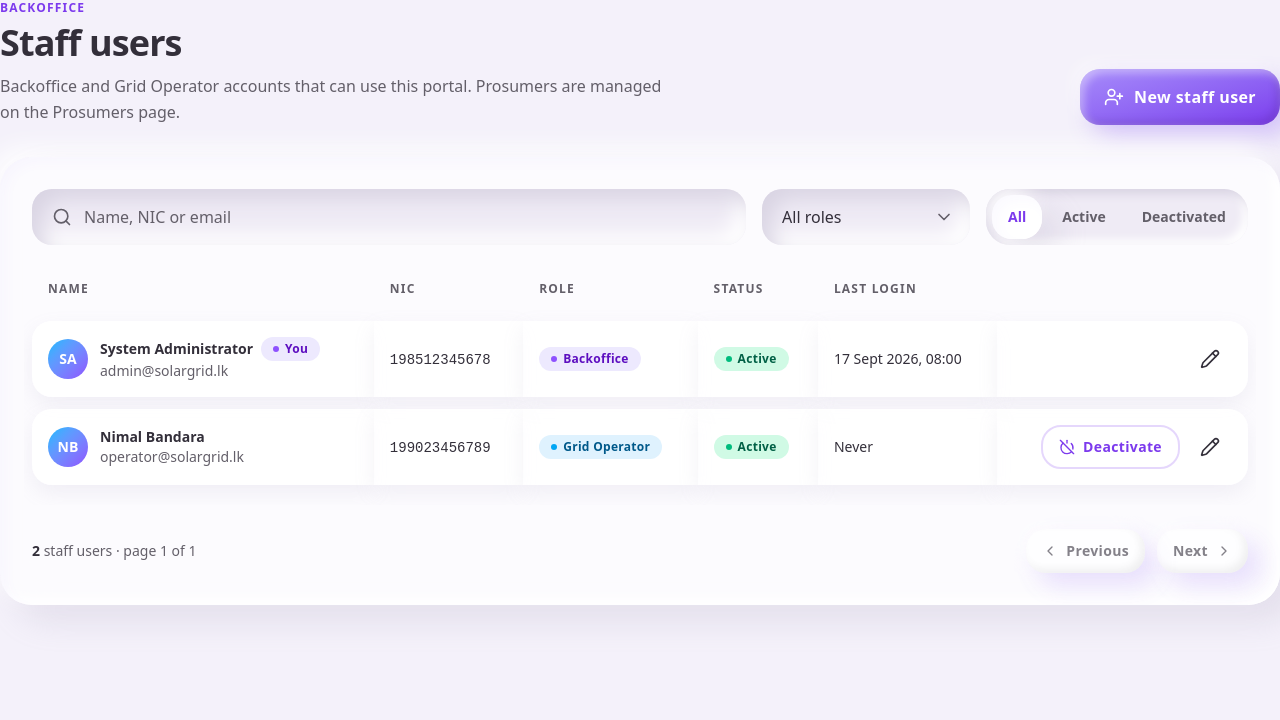
Test: UsersPage › locks the NIC and your own role when editing yourself
This screenshot has width=1280, height=720.
Check: the text "Nimal Bandara" is shown, box [100,427,205,446]
Click the button named "Edit System Administrator" at (1210, 359), box [1188,337,1232,381]
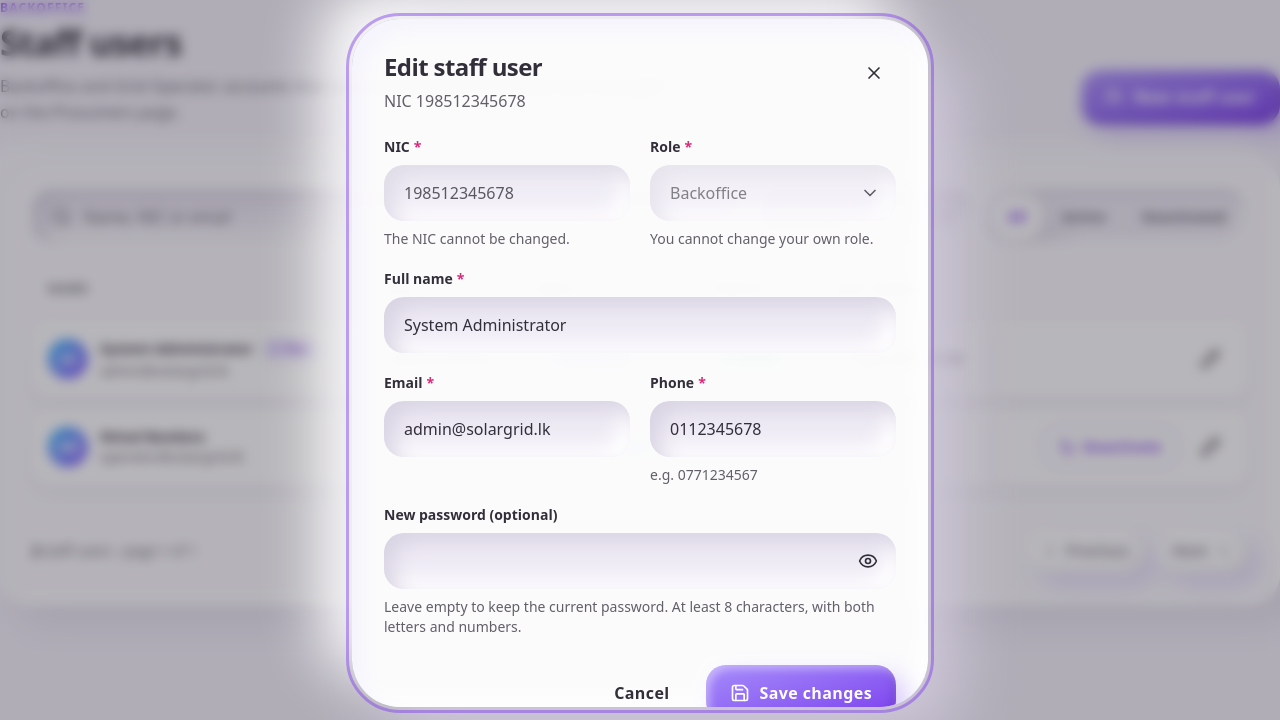
Check: the dropdown labelled "Role" is disabled, box [650,165,896,221]
Check: the text "You cannot change your own role." is shown, box [650,229,896,249]
